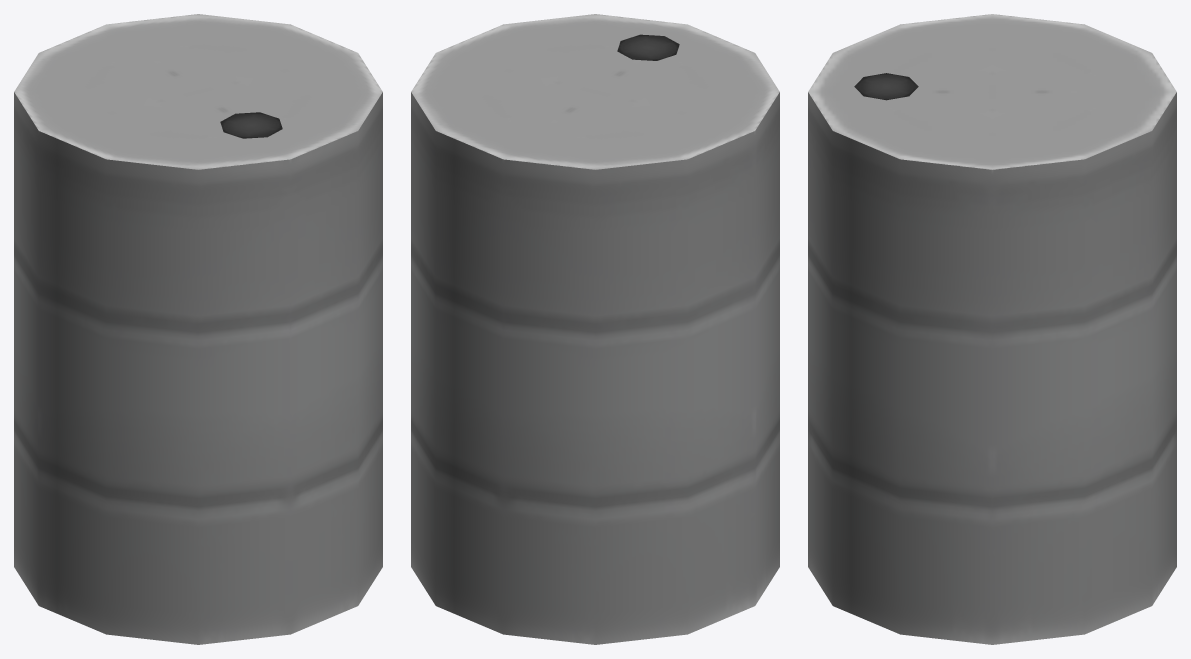
Rendered from barrel.fbx.
The picture shows the model from 3 angles, left to right: view 1: azimuth 30°, elevation 25°; view 2: azimuth 150°, elevation 25°; view 3: azimuth 270°, elevation 25°; orthographic projection.
Visible parts, largest first — view 1: Barrel; view 2: Barrel; view 3: Barrel.
Boxes of the visible parts, x1=… form: Barrel: x1=14, y1=14, x2=382, y2=644; Barrel: x1=411, y1=14, x2=779, y2=644; Barrel: x1=808, y1=14, x2=1176, y2=644.
Size of the model in its own units: 27.57 by 39.62 by 27.57.
